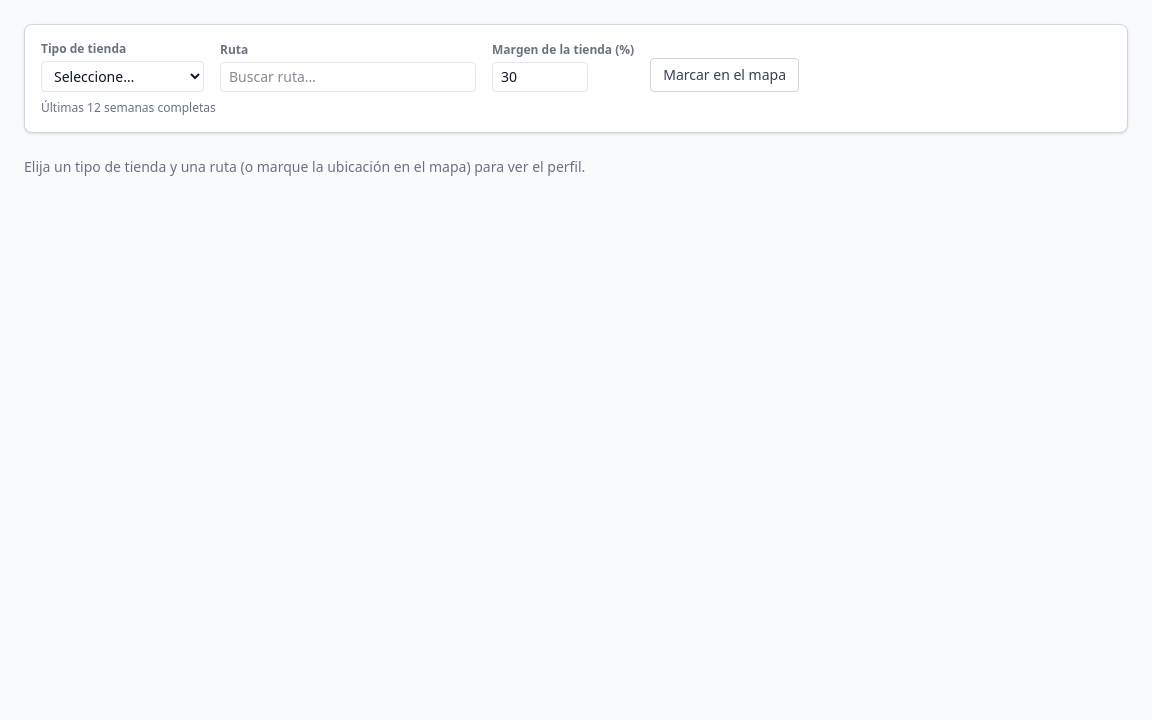
TabProspecto › benefit null with peers says "Sin datos de costo" and never shows $0
The image size is (1152, 720).
Select "Supermercado (12)" in the dropdown labelled "Tipo de tienda" at (122, 76), box [41,61,204,92]
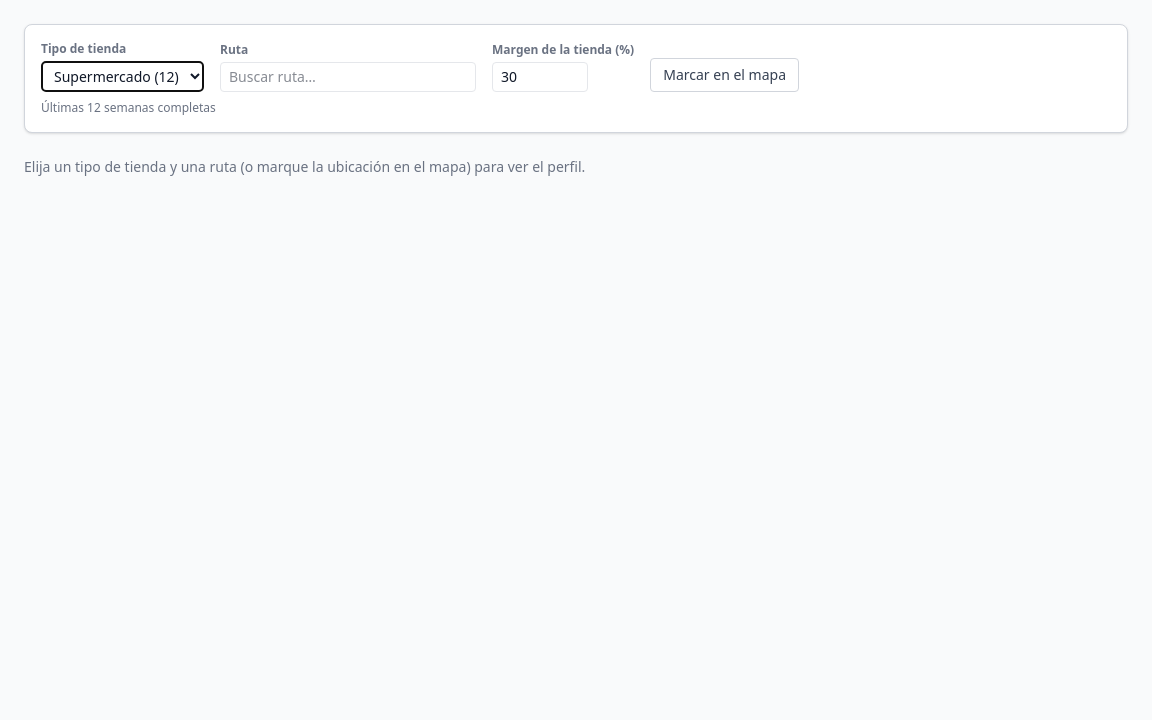
Click the field labelled "ruta".
click(348, 77)  # box [220,62,476,92]
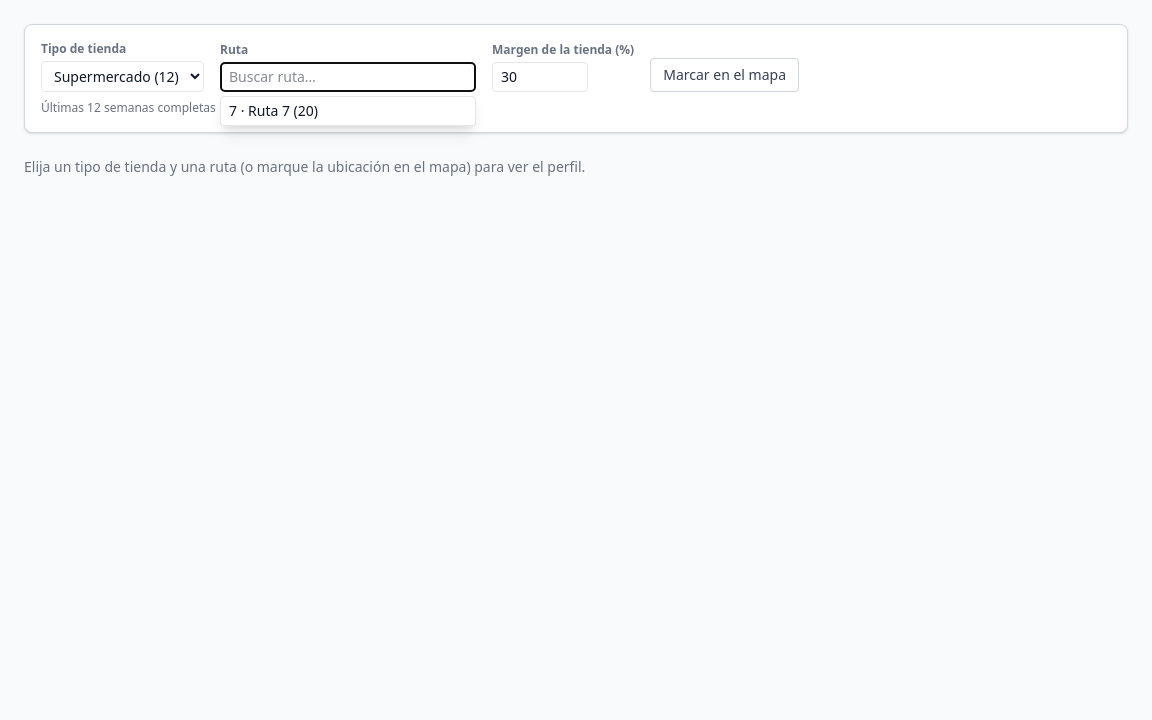
Click the button "7 · Ruta 7 (20)".
click(348, 111)  # box [221,97,475,125]
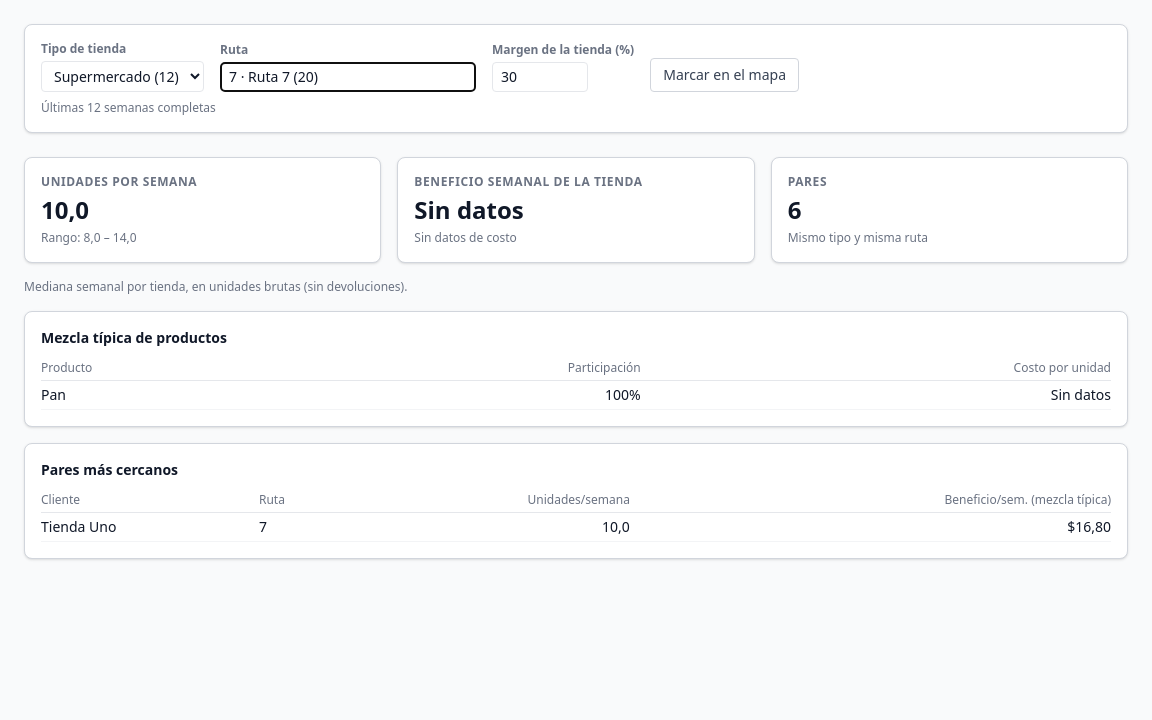
Now the text "Sin datos de costo" is shown, box [414,229,517,246]
